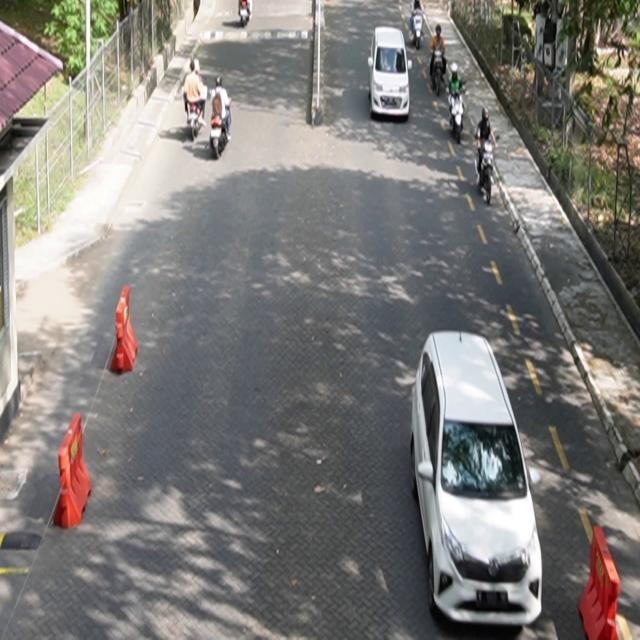car: (410, 330, 544, 629), (368, 27, 413, 123)
